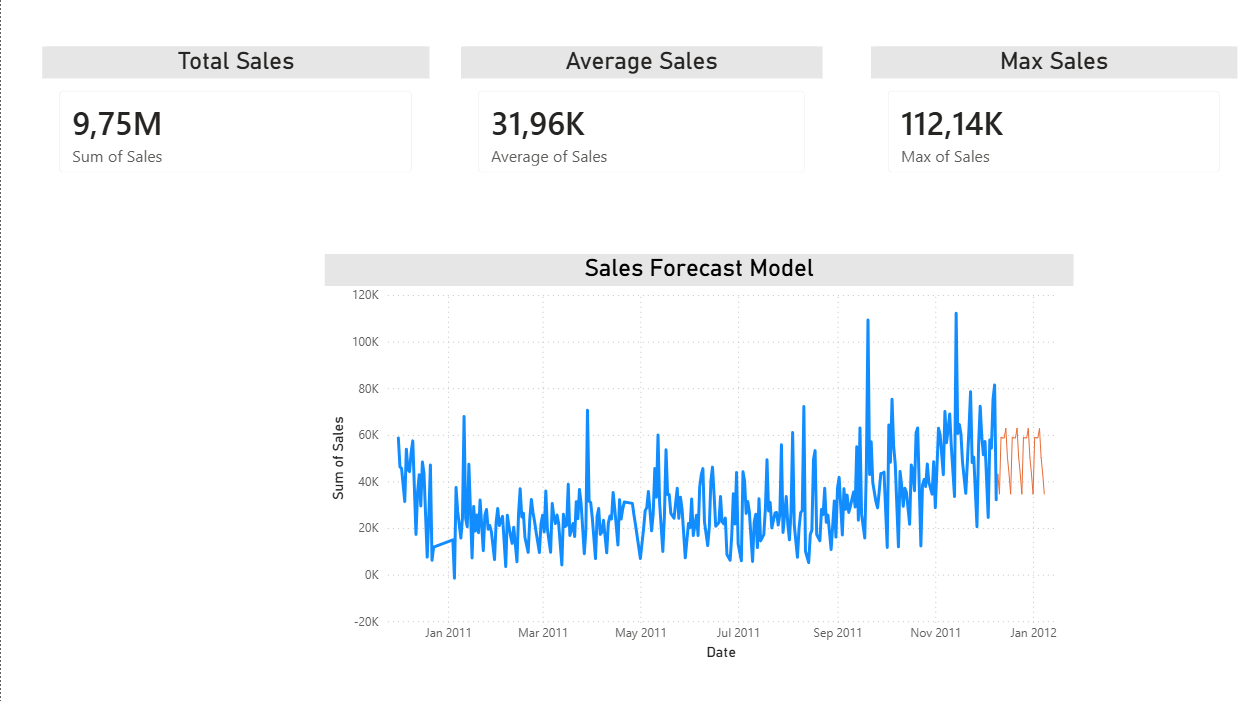

The page's visual inventory and layout, read from the dashboard file:
{"tool":"powerbi","page":{"name":"Page 1","canvas":[1280,720],"ordinal":0},"visuals":[{"type":"lineChart","title":"Sales Forecast Model","fields":{"Y":["Sum(sales_forecast_data.Sales)"],"Category":["sales_forecast_data.Date"]},"box":[323.8,255,748.8,411.2],"z":0},{"type":"cardVisual","title":"Total Sales","fields":{"Data":["Sum(sales_forecast_data.Sales)"]},"box":[41.2,47.5,387.5,143.8],"z":1000},{"type":"cardVisual","title":"Average Sales","fields":{"Data":["Avg(sales_forecast_data.Sales)"]},"box":[460,47.5,361.2,143.8],"z":2000},{"type":"cardVisual","title":"Max Sales","fields":{"Data":["Max(sales_forecast_data.Sales)"]},"box":[870,47.5,366.2,143.8],"z":3000}]}

Visuals, with their boxes in screenshot pixels (x1, y1, x2, y2), scaled from the page's 1280x720 canvas onto the 1252x701 screenshot:
"Sales Forecast Model" lineChart: (left=317, top=248, right=1049, bottom=649)
"Total Sales" cardVisual: (left=40, top=46, right=419, bottom=186)
"Average Sales" cardVisual: (left=450, top=46, right=803, bottom=186)
"Max Sales" cardVisual: (left=851, top=46, right=1209, bottom=186)
